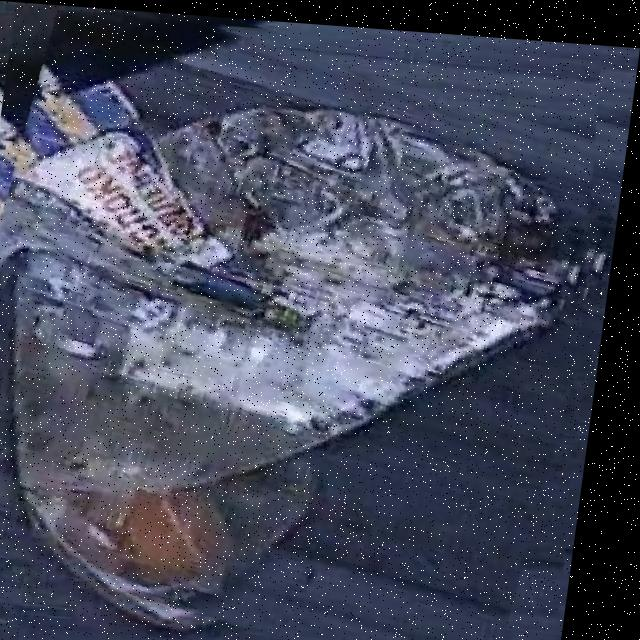plasticbottle: (0, 3, 640, 640)
